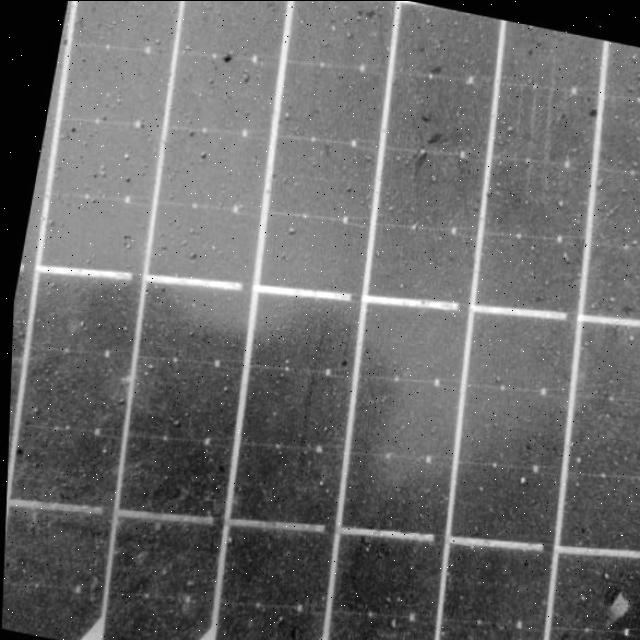Surface Contaminant: (1, 0, 640, 640)
